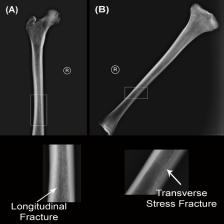longitudinal-fracture: (1, 0, 224, 202)
